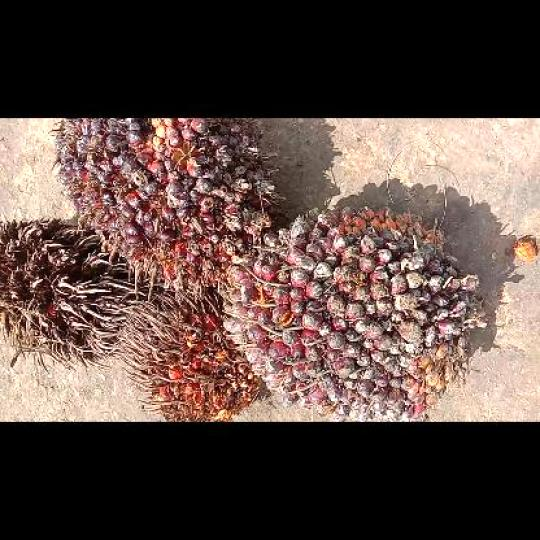kurang masak: (219, 200, 490, 420)
masak: (47, 119, 291, 299)
terlalu masak: (116, 289, 263, 420)
